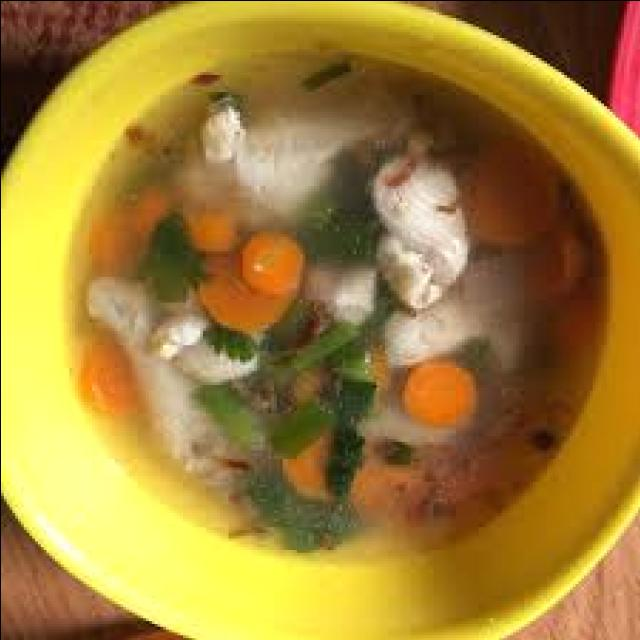sop: (65, 48, 609, 563)
